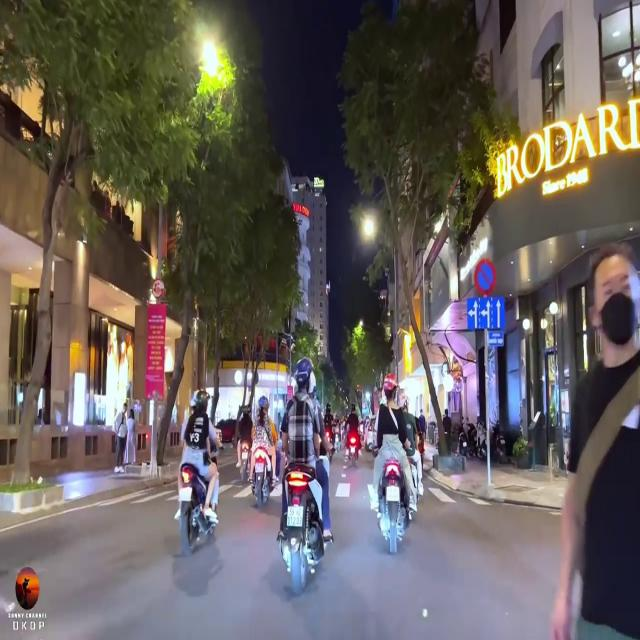bien_trang: (284, 504, 304, 526)
